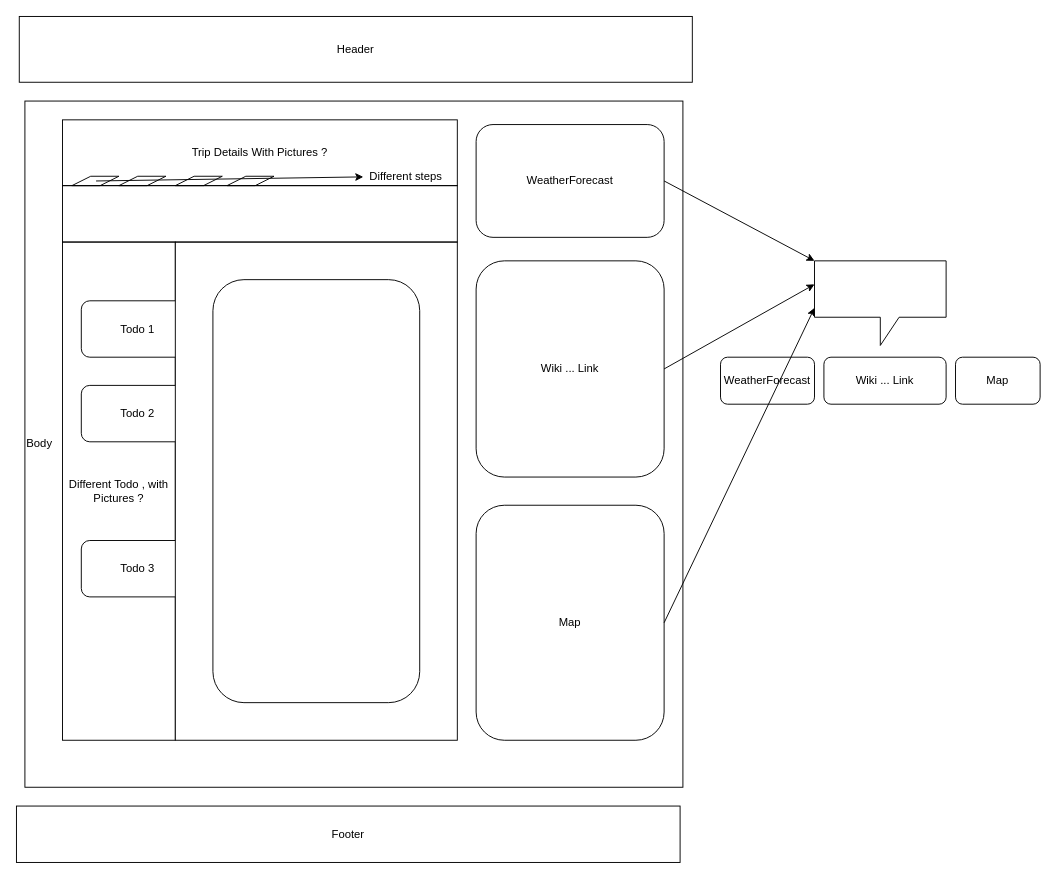
The diagram is 1057 pixels wide and 879 high, and some of its shapes have lost their labels. Here are the shapes that lost their labels. From the top down, the centre of each, then its label:
At point 259,213: "Step Details, wit pictures ?".
At point 880,302: "For smaller screen, will be added in the bottom of the page as a row".
At point 316,491: "Todo Details, With Picures ?".
